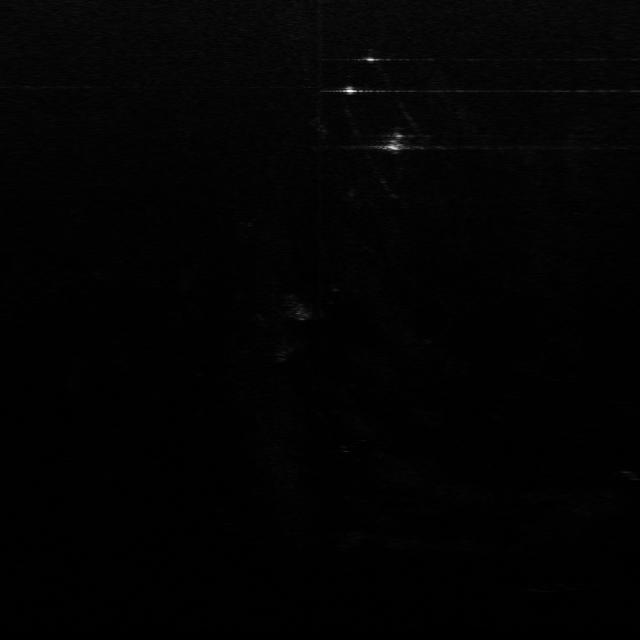rov: (378, 128, 411, 149)
